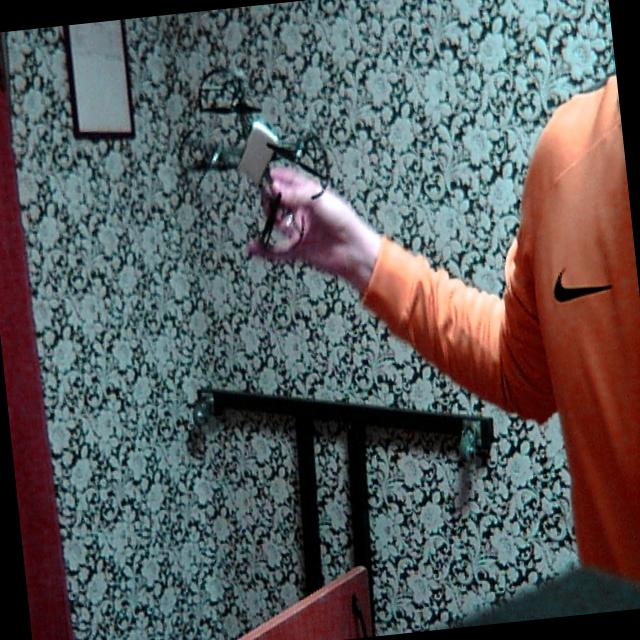drone: (148, 40, 349, 272)
